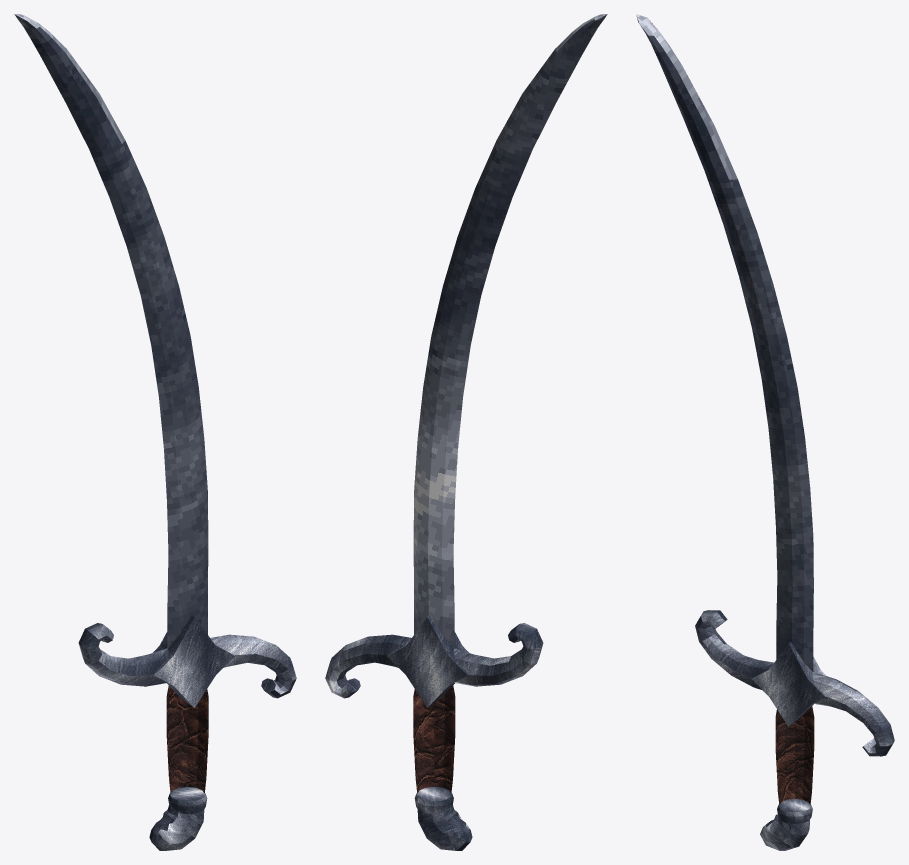
File: cimitarra.glb
3 views of the same model, side by side, from view 1: azimuth 30°, elevation 25°; view 2: azimuth 150°, elevation 25°; view 3: azimuth 330°, elevation 25° (orthographic). The views are drawn at different scales.
Parts seen in each view (by area): view 1: Lâmina curva estreita, Cabo escuro, Centro da guarda, Guarda esquerda, Guarda direita, Pomo curvado, Virola; view 2: Lâmina curva estreita, Cabo escuro, Centro da guarda, Guarda esquerda, Guarda direita, Pomo curvado, Virola; view 3: Lâmina curva estreita, Cabo escuro, Centro da guarda, Guarda direita, Guarda esquerda, Pomo curvado, Virola.
Part boxes in pixels (x1,y1,x2,y2): Lâmina curva estreita: [14, 14, 208, 648]; Cabo escuro: [166, 685, 208, 793]; Centro da guarda: [153, 615, 234, 707]; Guarda esquerda: [78, 623, 168, 686]; Guarda direita: [210, 634, 296, 698]; Pomo curvado: [149, 805, 204, 850]; Virola: [168, 786, 207, 814]; Lâmina curva estreita: [413, 14, 607, 648]; Cabo escuro: [413, 685, 455, 793]; Centro da guarda: [387, 615, 468, 707]; Guarda esquerda: [453, 623, 543, 686]; Guarda direita: [325, 634, 411, 698]; Pomo curvado: [417, 805, 472, 850]; Virola: [414, 786, 453, 814]; Lâmina curva estreita: [636, 14, 813, 671]; Cabo escuro: [775, 705, 814, 804]; Centro da guarda: [752, 642, 826, 726]; Guarda direita: [812, 672, 894, 756]; Guarda esquerda: [695, 610, 773, 689]; Pomo curvado: [760, 814, 809, 850]; Virola: [777, 799, 812, 823].
Bounding box in the file's own units: 1.39 × 4.13 × 0.18.
3 materials, 3 textured.
